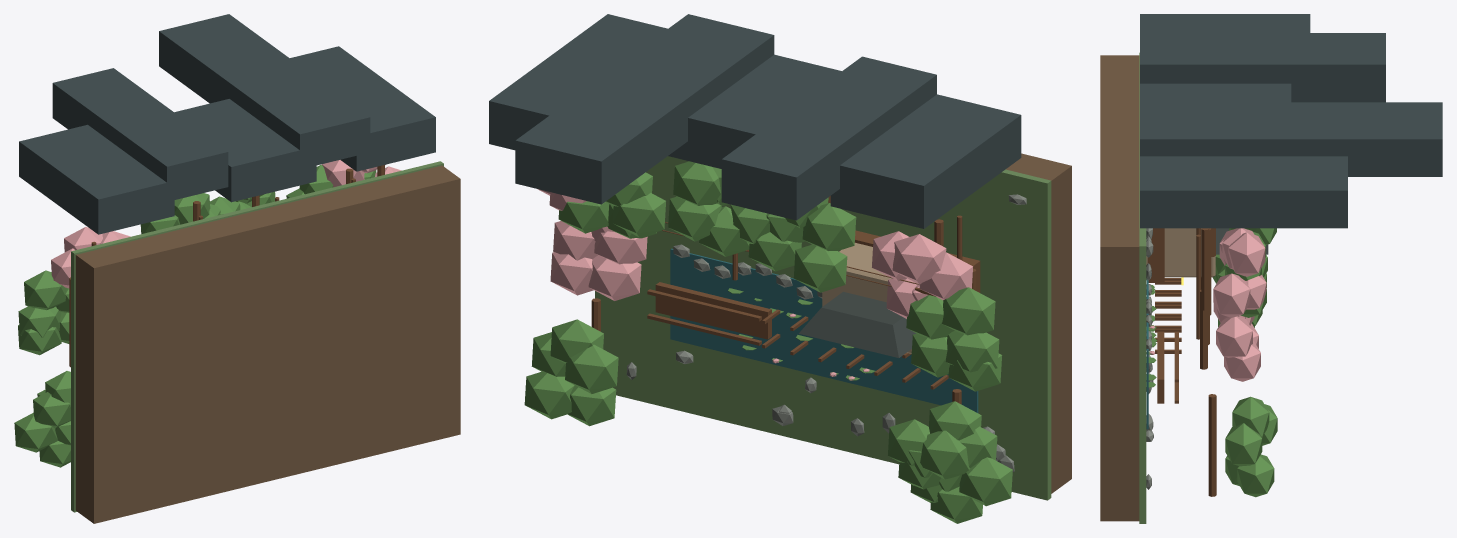
File: reference-pond-island.glb
The picture shows the model from 3 angles, left to right: view 1: azimuth 30°, elevation 25°; view 2: azimuth 150°, elevation 25°; view 3: azimuth 270°, elevation 25°; orthographic projection. The views are drawn at different scales.
Parts seen in each view (by area): view 1: island_rock, background_building.004, background_building.002, background_building.001, background_building, background_building.003, island_grass_cap, tree_canopy.001, tree_canopy.032, tree_canopy.007, tree_canopy.002, tree_canopy.003 (+6 smaller); view 2: island_grass_cap, background_building.004, background_building.002, background_building.001, pond, background_building, background_building.003, island_rock, house_tile_roof, bridge_deck, house_body, tree_canopy.013 (+36 smaller); view 3: island_rock, background_building.004, background_building, background_building.002, background_building.001, background_building.003, island_grass_cap, house_body, tree_canopy.049, tree_canopy.045, tree_canopy.025, tree_canopy.040 (+11 smaller).
Boxes of the visible parts, x1=… form: island_rock: x1=75, y1=165, x2=460, y2=523; background_building.004: x1=159, y1=14, x2=370, y2=165; background_building.002: x1=52, y1=68, x2=228, y2=201; background_building.001: x1=19, y1=124, x2=174, y2=234; background_building: x1=290, y1=46, x2=435, y2=171; background_building.003: x1=174, y1=99, x2=316, y2=202; island_grass_cap: x1=71, y1=161, x2=443, y2=512; tree_canopy.001: x1=24, y1=270, x2=66, y2=310; tree_canopy.032: x1=14, y1=412, x2=57, y2=452; tree_canopy.007: x1=33, y1=392, x2=70, y2=428; tree_canopy.002: x1=18, y1=306, x2=61, y2=337; tree_canopy.003: x1=18, y1=325, x2=61, y2=355; island_grass_cap: x1=595, y1=156, x2=1051, y2=500; background_building.004: x1=515, y1=14, x2=774, y2=204; background_building.002: x1=721, y1=56, x2=936, y2=220; background_building.001: x1=830, y1=94, x2=1021, y2=228; pond: x1=670, y1=248, x2=978, y2=412; background_building: x1=489, y1=14, x2=667, y2=150; background_building.003: x1=668, y1=54, x2=841, y2=168; island_rock: x1=1006, y1=153, x2=1071, y2=493; house_tile_roof: x1=799, y1=291, x2=916, y2=357; bridge_deck: x1=655, y1=282, x2=771, y2=339; house_body: x1=822, y1=242, x2=911, y2=353; tree_canopy.013: x1=793, y1=244, x2=847, y2=292; island_rock: x1=1100, y1=55, x2=1139, y2=521; background_building.004: x1=1140, y1=102, x2=1442, y2=176; background_building: x1=1140, y1=156, x2=1347, y2=228; background_building.002: x1=1140, y1=33, x2=1385, y2=102; background_building.001: x1=1140, y1=14, x2=1310, y2=32; background_building.003: x1=1140, y1=83, x2=1291, y2=102; island_grass_cap: x1=1139, y1=52, x2=1146, y2=523; house_body: x1=1146, y1=228, x2=1215, y2=277; tree_canopy.049: x1=1213, y1=273, x2=1250, y2=317; tree_canopy.045: x1=1228, y1=232, x2=1265, y2=276; tree_canopy.025: x1=1225, y1=423, x2=1262, y2=466; tree_canopy.040: x1=1216, y1=316, x2=1252, y2=357.
Size of the model in its own units: 25.58 by 20.2 by 18.1.
